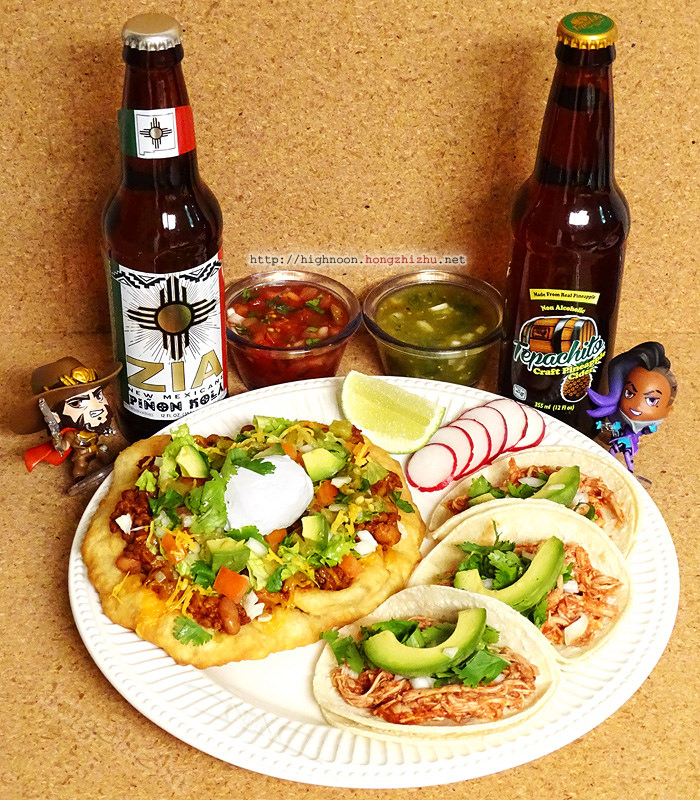chopped lettuce: (152, 435, 223, 538), (298, 539, 351, 566)
